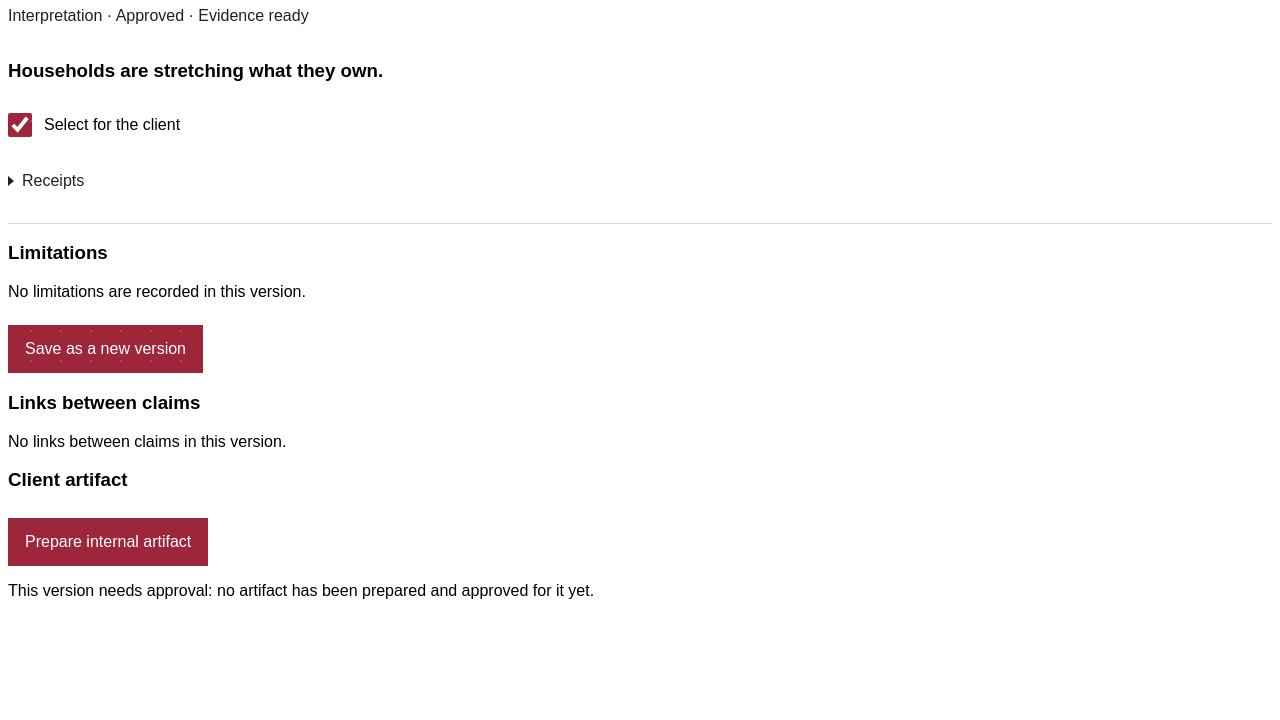
it: review fixes after the first review › after approval the artifact is read again so the approved PDF can be downloaded
(page scrolled)
Click the button "Prepare internal artifact" at [108, 542], box 8,518 -> 208,566
(page scrolled)
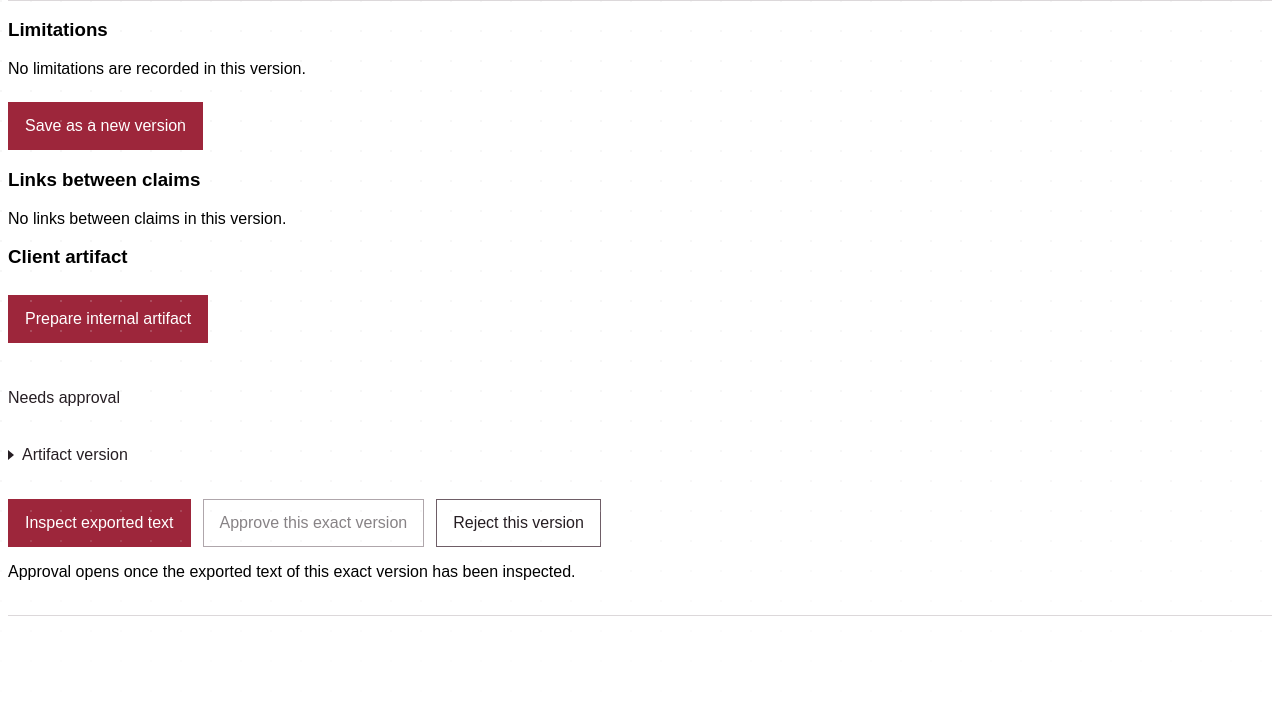
Click the button "Inspect exported text" at [99, 523], box 8,499 -> 190,547
(page scrolled)
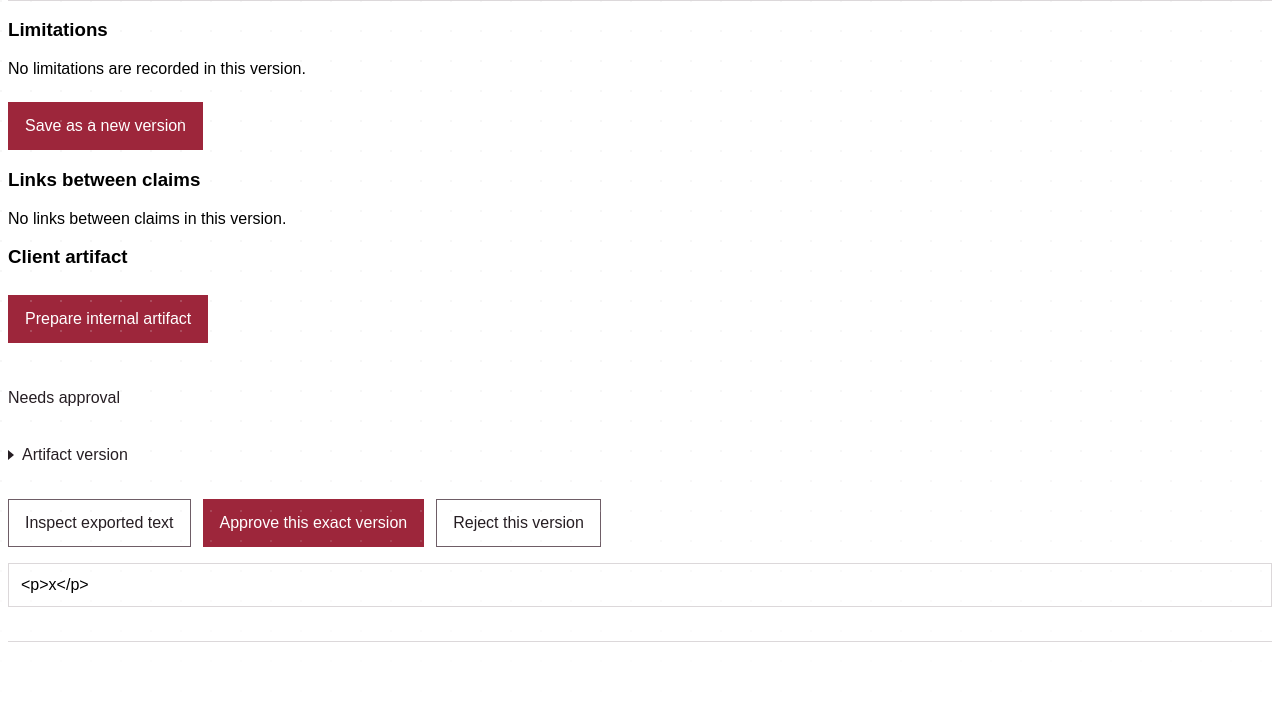
Click the button "Approve this exact version" at [313, 523], box 202,499 -> 424,547
(page scrolled)
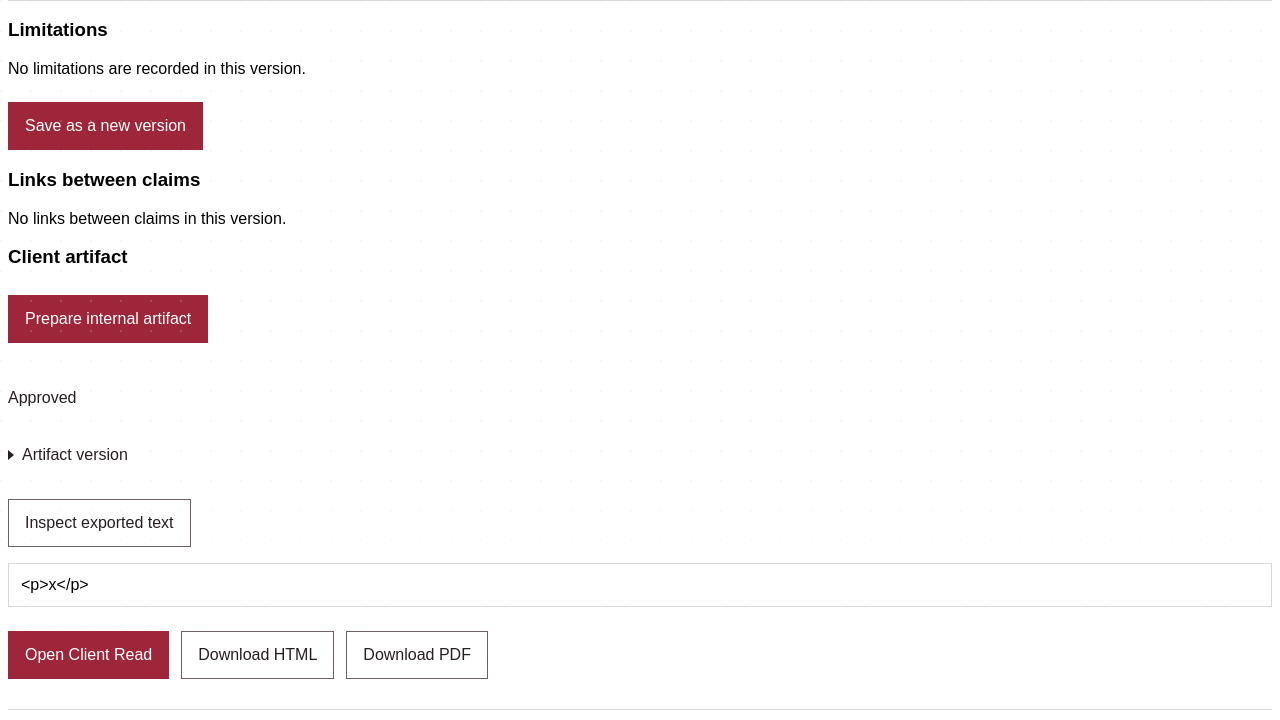
Check: the button "Download PDF" is shown, box 346,631 -> 488,679
